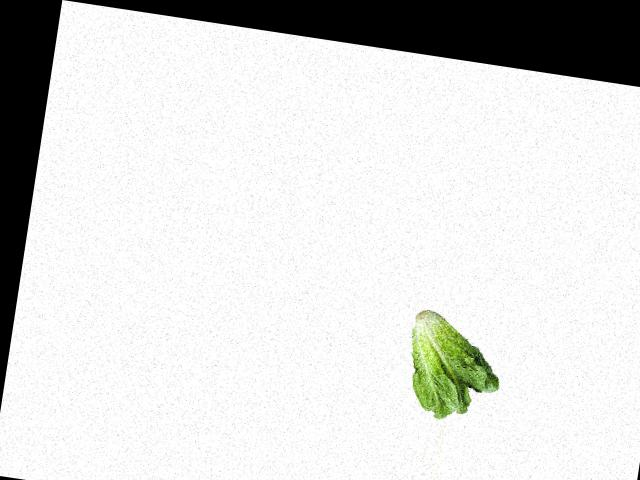lettuce: (396, 308, 511, 429)
